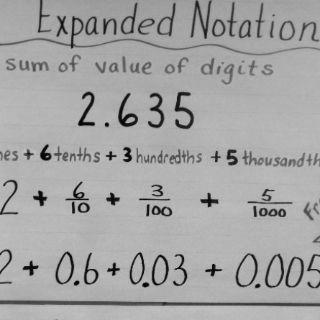.: (73, 276, 81, 289), (102, 120, 111, 128), (142, 279, 149, 289)
0: (54, 250, 75, 285), (151, 253, 170, 287), (129, 250, 145, 286), (77, 201, 91, 215)
1: (69, 199, 77, 216), (144, 202, 151, 217)
2: (1, 177, 21, 217), (76, 89, 97, 127)
3: (146, 90, 167, 130), (171, 252, 189, 286), (120, 145, 133, 165), (149, 182, 164, 197)
5: (173, 90, 194, 132), (224, 147, 239, 167), (260, 184, 274, 202)
6: (116, 92, 139, 128), (83, 249, 99, 286), (38, 141, 53, 163), (70, 180, 87, 199)
